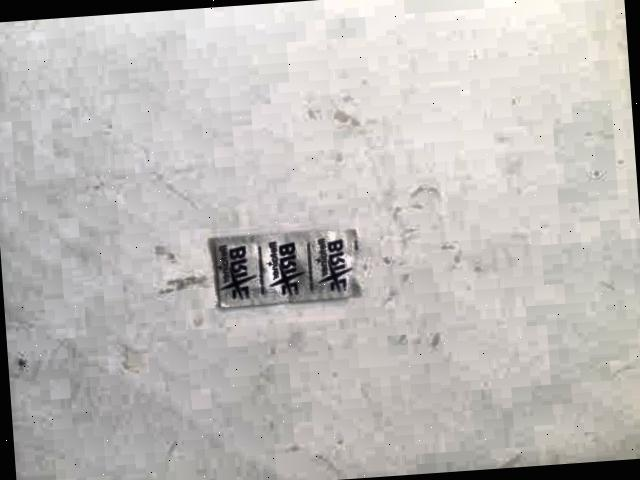Plastic: (204, 210, 376, 316)
